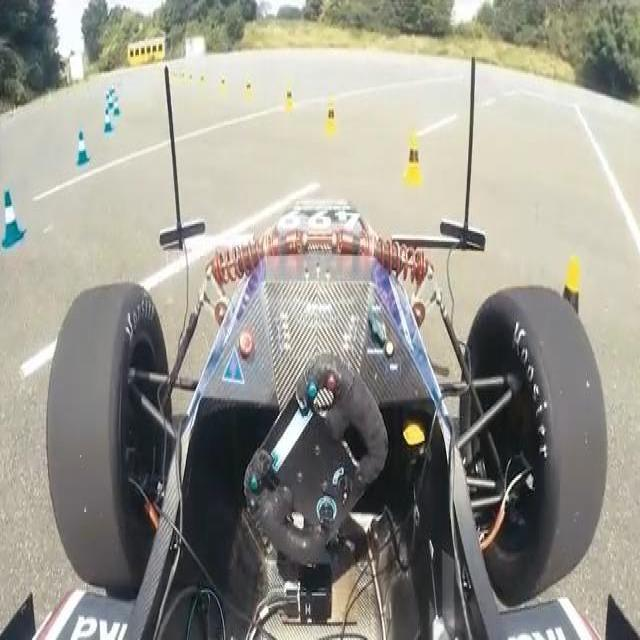blue_cone: (2, 190, 27, 248), (75, 130, 90, 167), (102, 107, 112, 134), (113, 94, 120, 120), (106, 87, 113, 110)
yellow_cone: (531, 238, 593, 445), (402, 132, 423, 190), (323, 98, 338, 139), (281, 84, 295, 117), (244, 78, 253, 104), (220, 75, 227, 96), (200, 73, 206, 90), (189, 71, 194, 87)
